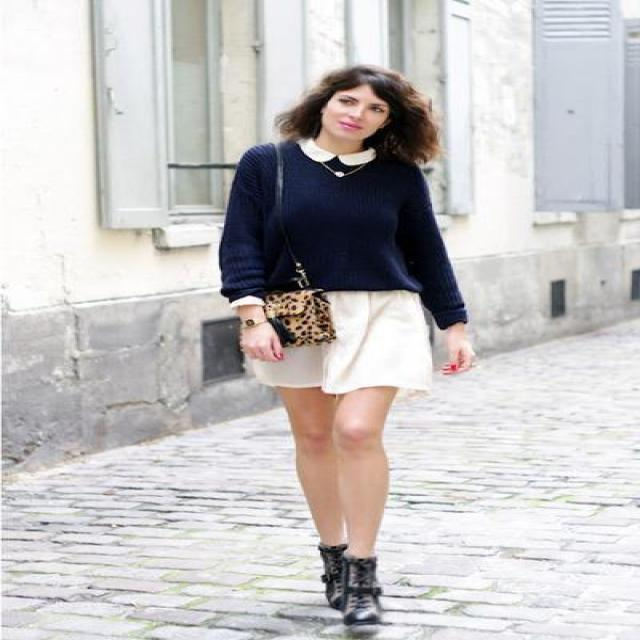bag: (267, 289, 363, 361)
jacket: (219, 138, 466, 342)
shoe: (318, 544, 379, 624)
skirt: (242, 290, 432, 394)
